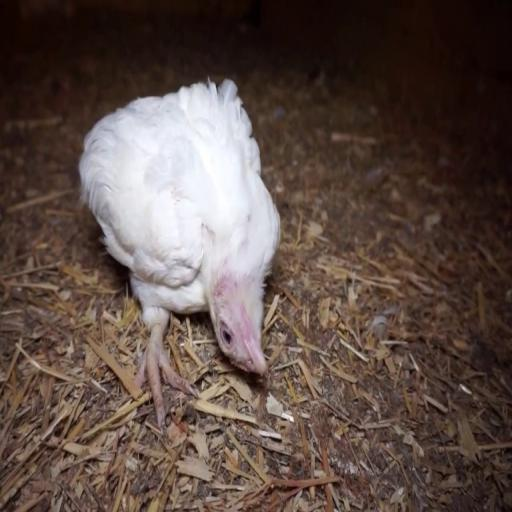disease: (214, 290, 239, 358)
